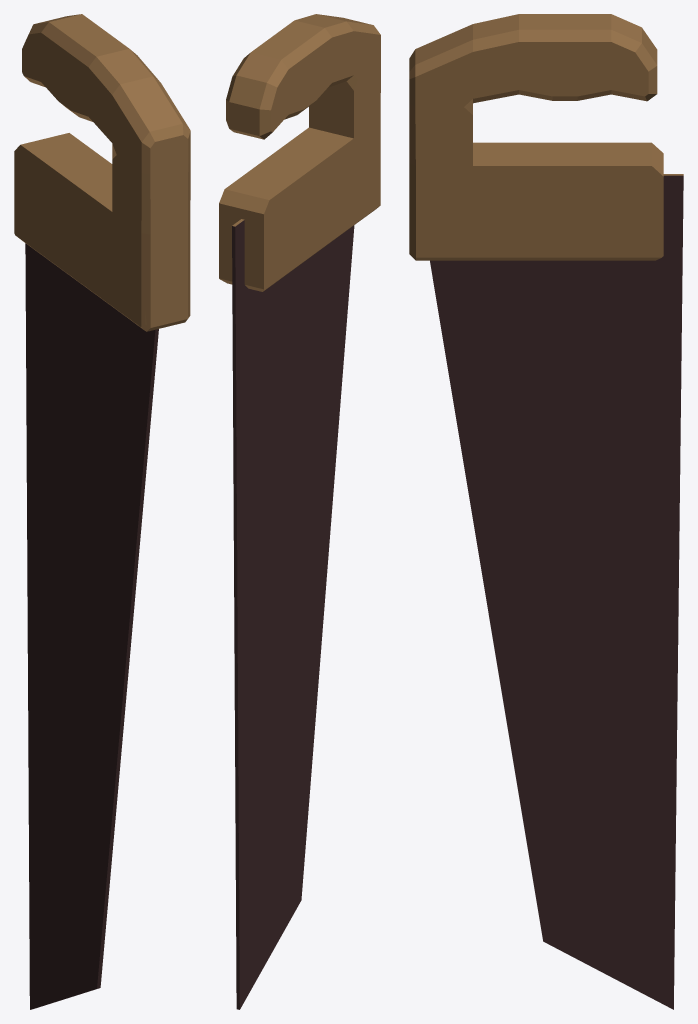
The model's file is Saw0.fbx.
The picture shows the model from 3 angles, left to right: view 1: azimuth 30°, elevation 25°; view 2: azimuth 150°, elevation 25°; view 3: azimuth 270°, elevation 25°; orthographic projection. The views are drawn at different scales.
Visible parts, largest first — view 1: Cube.001; view 2: Cube.001; view 3: Cube.001.
Boxes of the visible parts, x1,y1,x2,y2 form: Cube.001: (14,14,190,1009); Cube.001: (219,14,380,1009); Cube.001: (409,14,683,1009).
Size of the model in its own units: 4.43 by 87.66 by 22.06.
